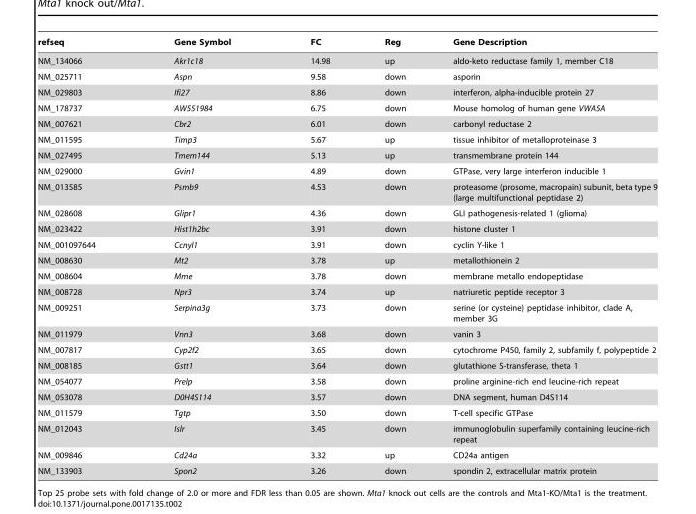table: (37, 37, 656, 475)
table column: (428, 37, 656, 475), (134, 37, 270, 475), (37, 37, 134, 475), (270, 37, 356, 475), (356, 37, 428, 475)
table column header: (37, 37, 656, 51)
table row: (37, 178, 656, 205), (37, 299, 656, 326), (37, 420, 656, 447), (37, 51, 656, 68), (37, 68, 656, 84), (37, 84, 656, 100), (37, 115, 656, 131), (37, 131, 656, 147), (37, 147, 656, 163), (37, 220, 656, 236), (37, 236, 656, 252), (37, 252, 656, 268), (37, 283, 656, 299), (37, 341, 656, 357), (37, 357, 656, 373), (37, 373, 656, 389), (37, 404, 656, 420), (37, 100, 656, 115), (37, 163, 656, 178), (37, 205, 656, 220), (37, 268, 656, 283), (37, 326, 656, 341), (37, 389, 656, 404), (37, 447, 656, 462), (37, 37, 656, 51), (37, 462, 656, 475)
